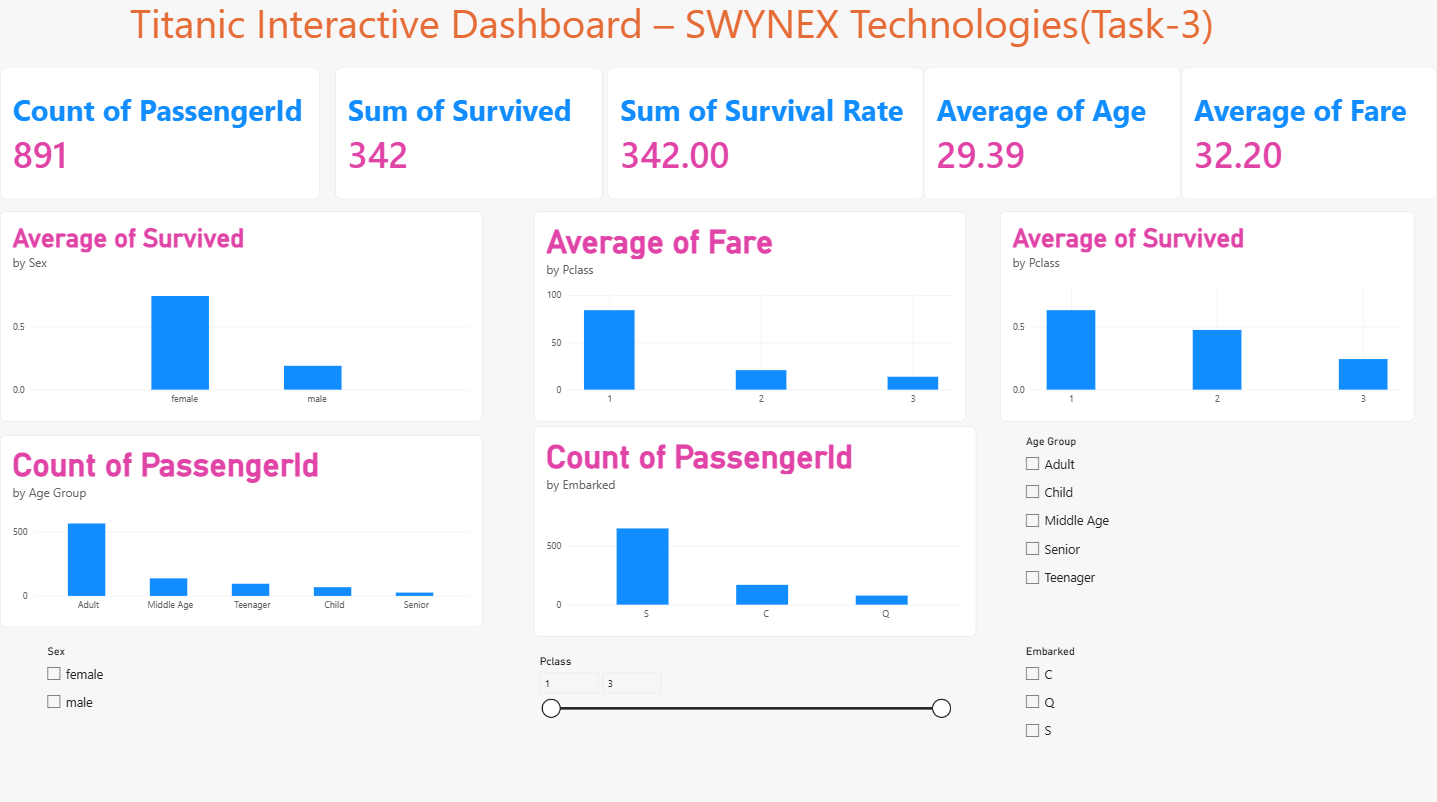

Layout of this report page (visuals, bound fields, positions):
{"tool":"powerbi","page":{"name":"Page 1","canvas":[1920,1080],"ordinal":0},"visuals":[{"type":"cardVisual","fields":{"Data":["CountNonNull(train.PassengerId)"]},"box":[0,96.8,427.5,177],"z":0},{"type":"cardVisual","fields":{"Data":["Sum(train.Survived)"]},"box":[447.5,96.8,359,177],"z":1000},{"type":"cardVisual","fields":{"Data":["Sum(train.Survival Rate)"]},"box":[811.5,96.8,422.5,177],"z":2000},{"type":"cardVisual","fields":{"Data":["Avg(train.Age)"]},"box":[1234,96.8,344,177],"z":3000},{"type":"cardVisual","fields":{"Data":["Avg(train.Fare)"]},"box":[1577.9,96.8,342.3,177],"z":4000},{"type":"clusteredColumnChart","fields":{"Category":["train.Sex"],"Y":["Avg(train.Survived)"]},"box":[0,288.9,644.5,280.5],"z":5000},{"type":"clusteredColumnChart","fields":{"Y":["Avg(train.Survived)"],"Category":["train.Pclass"]},"box":[1335.8,288.9,554.4,280.5],"z":6000},{"type":"clusteredColumnChart","fields":{"Category":["train.Embarked"],"Y":["CountNonNull(train.PassengerId)"]},"box":[713,576.1,591.1,280.5],"z":7000},{"type":"clusteredColumnChart","fields":{"Category":["train.Age Group"],"Y":["CountNonNull(train.PassengerId)"]},"box":[0,587.8,644.5,257.1],"z":8000},{"type":"clusteredColumnChart","fields":{"Y":["Avg(train.Fare)"],"Category":["train.Pclass"]},"box":[713,288.9,577.7,280.5],"z":9000},{"type":"slicer","fields":{"Values":["train.Sex"]},"box":[55.1,868.3,467.5,162],"z":10000},{"type":"slicer","fields":{"Values":["train.Pclass"]},"box":[713,881.6,561,178.7],"z":11000},{"type":"slicer","fields":{"Values":["train.Embarked"]},"box":[1362.5,868.3,467.5,188.7],"z":12000},{"type":"slicer","fields":{"Values":["train.Age Group"]},"box":[1362.5,587.8,467.5,242.1],"z":13000},{"type":"textbox","box":[0,868.3,644.5,212.1],"z":14000},{"type":"textbox","box":[493,899,467,181],"z":15000},{"type":"textbox","box":[173.7,0,1621.3,78.5],"z":16000}]}

Visuals, with their boxes in screenshot pixels (x1, y1, x2, y2), scaled from the page's 1920x1080 canvas onto the 1437x802 screenshot:
cardVisual - CountNonNull(train.PassengerId): x1=0, y1=72, x2=320, y2=203
cardVisual - Sum(train.Survived): x1=335, y1=72, x2=604, y2=203
cardVisual - Sum(train.Survival Rate): x1=607, y1=72, x2=924, y2=203
cardVisual - Avg(train.Age): x1=924, y1=72, x2=1181, y2=203
cardVisual - Avg(train.Fare): x1=1181, y1=72, x2=1436, y2=203
clusteredColumnChart - train.Sex x Avg(train.Survived): x1=0, y1=215, x2=482, y2=423
clusteredColumnChart - Avg(train.Survived) x train.Pclass: x1=1000, y1=215, x2=1415, y2=423
clusteredColumnChart - train.Embarked x CountNonNull(train.PassengerId): x1=534, y1=428, x2=976, y2=636
clusteredColumnChart - train.Age Group x CountNonNull(train.PassengerId): x1=0, y1=436, x2=482, y2=627
clusteredColumnChart - Avg(train.Fare) x train.Pclass: x1=534, y1=215, x2=966, y2=423
slicer - train.Sex: x1=41, y1=645, x2=391, y2=765
slicer - train.Pclass: x1=534, y1=655, x2=954, y2=787
slicer - train.Embarked: x1=1020, y1=645, x2=1370, y2=785
slicer - train.Age Group: x1=1020, y1=436, x2=1370, y2=616
textbox: x1=0, y1=645, x2=482, y2=801
textbox: x1=369, y1=668, x2=718, y2=801
textbox: x1=130, y1=0, x2=1343, y2=58
